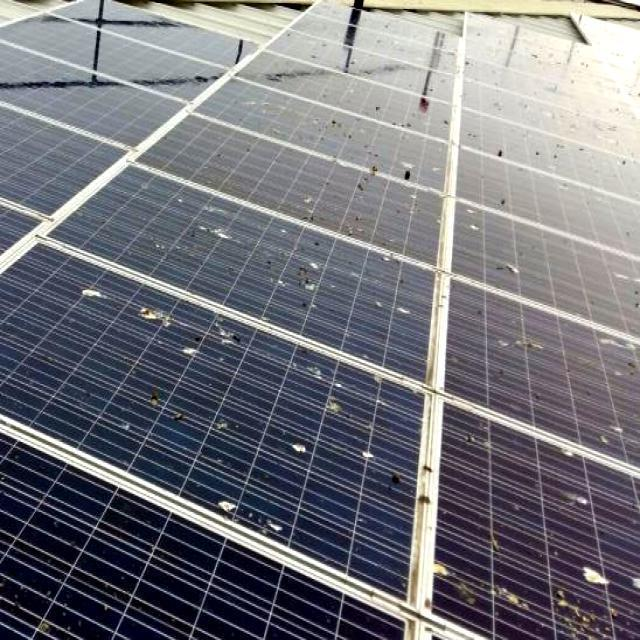soiled: (6, 29, 634, 640)
